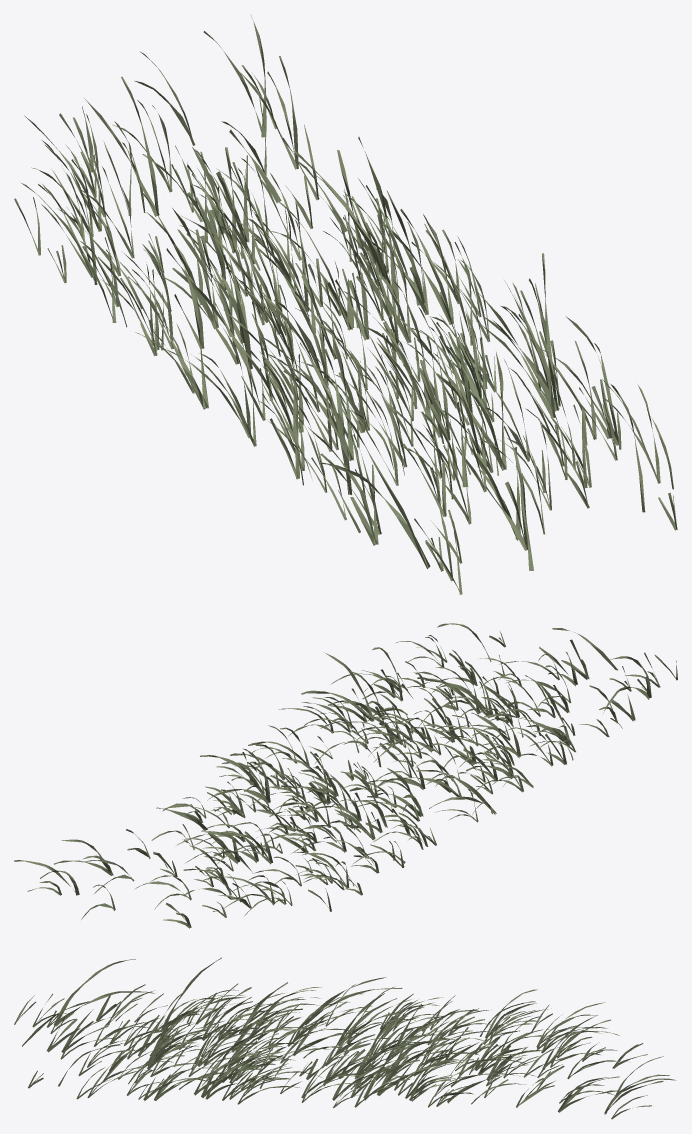
Rendered from GrassCarpet.fbx.
The picture shows the model from 3 angles, top to bottom: view 1: azimuth 30°, elevation 25°; view 2: azimuth 150°, elevation 25°; view 3: azimuth 270°, elevation 25°; orthographic projection. The views are drawn at different scales.
Visible parts, largest first — view 1: grassCarpet1Main; view 2: grassCarpet1Main; view 3: grassCarpet1Main.
Part boxes in pixels (bbox=[...]): grassCarpet1Main: bbox=[14, 15, 677, 594]; grassCarpet1Main: bbox=[14, 623, 677, 928]; grassCarpet1Main: bbox=[14, 957, 676, 1119].
Size of the model in its own units: 2.5 by 0.8361 by 6.54.
